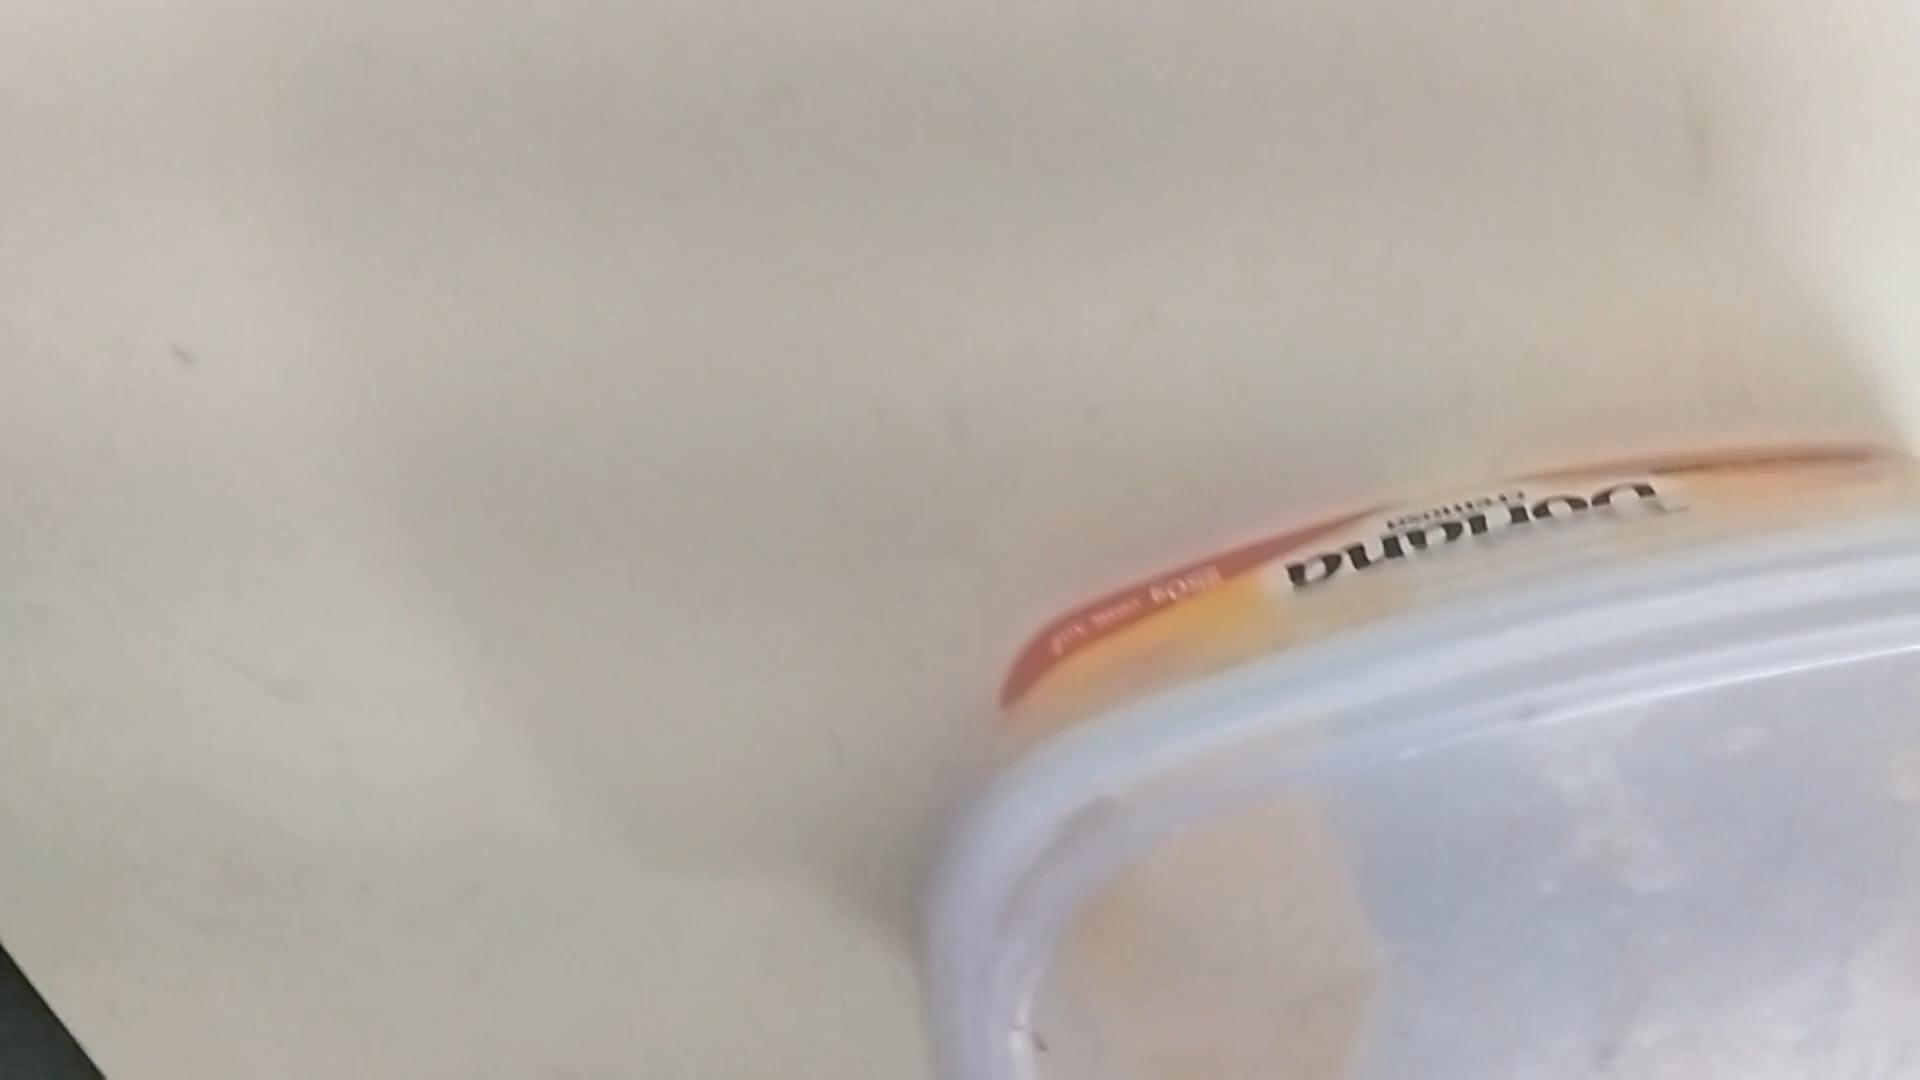butter: (920, 463, 1913, 1080)
